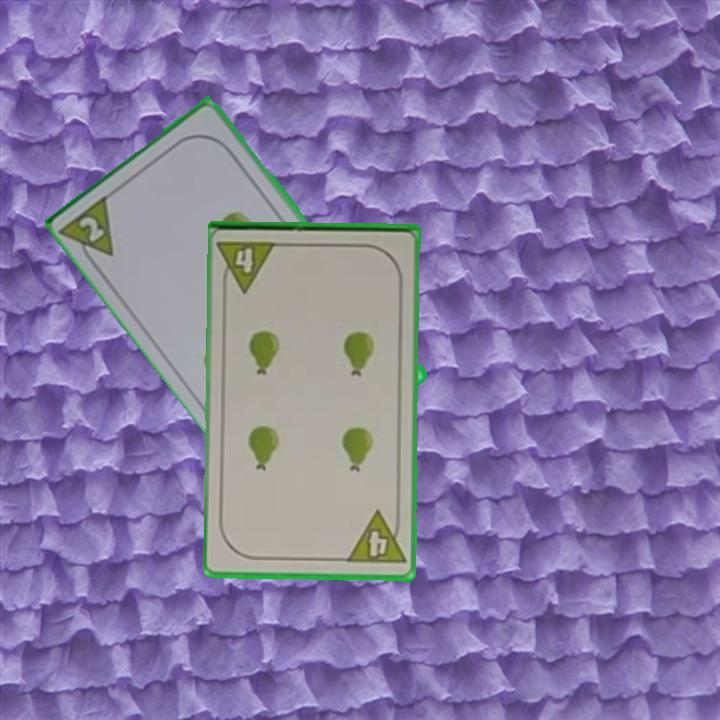2p: (58, 189, 118, 273)
4p: (343, 507, 408, 568), (215, 237, 281, 295)
